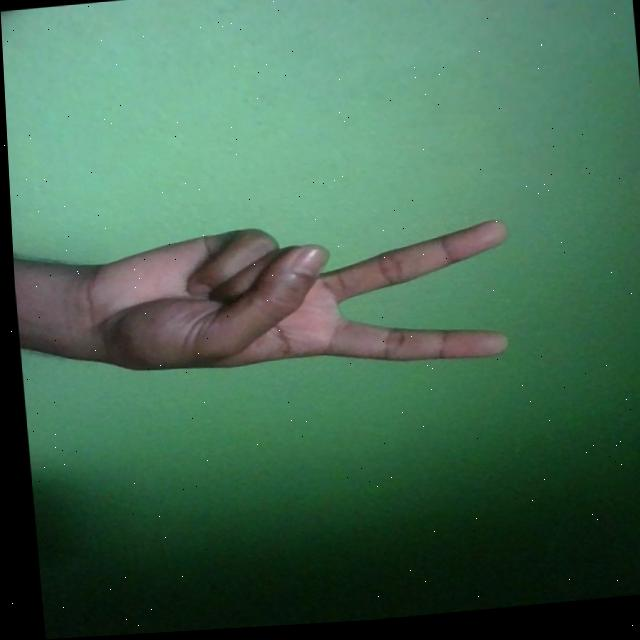Peace: (66, 209, 519, 395)
